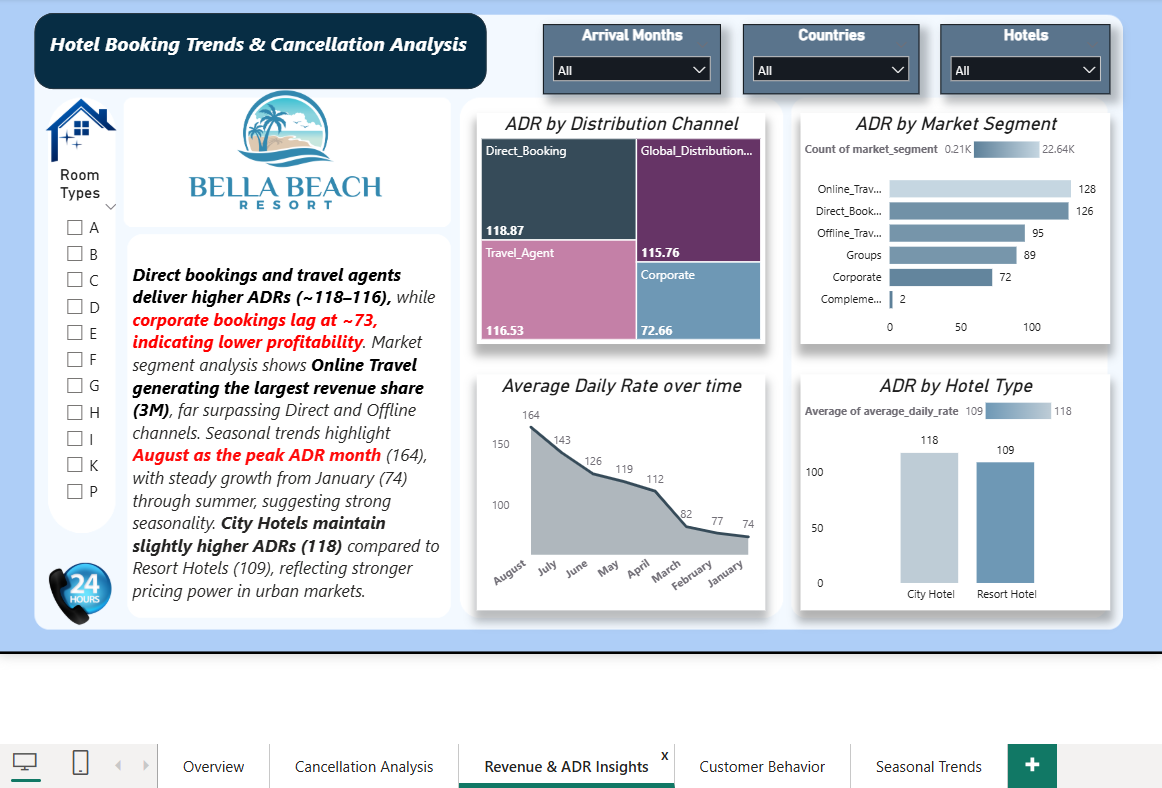

The dashboard page shown, as its layout file describes it:
{"tool":"powerbi","page":{"name":"Revenue & ADR Insights","canvas":[1280,720],"ordinal":2},"visuals":[{"type":"slicer","title":"Hotels","fields":{"Values":["hotel_revenue.hotel"]},"box":[655.8,166.3,293,59.3],"z":0},{"type":"slicer","title":"Countries","fields":{"Values":["hotel_revenue.Country Full Name"]},"box":[333.7,166.3,293,59.3],"z":1000},{"type":"textbox","box":[82.2,0,1115.9,86.3],"z":2000},{"type":"slicer","title":"Arrival Months","fields":{"Values":["hotel_revenue.arrival_date_month"]},"box":[12.8,166.3,293,59.3],"z":3000},{"type":"image","box":[12.8,0,181.4,173.3],"z":4000},{"type":"cardVisual","fields":{"Data":["Measure.Avg Lead Time"]},"box":[735.8,63.3,242.6,102.4],"z":5000},{"type":"cardVisual","fields":{"Data":["Measure.Cancellation Rate"]},"box":[458.2,63.3,239.9,102.4],"z":6000},{"type":"cardVisual","fields":{"Data":["Measure.Total Bookings"]},"box":[202.1,62,222.4,102.4],"z":7000},{"type":"cardVisual","fields":{"Data":["Measure.Avg Daily Rate"]},"box":[1006.7,63.3,234.5,102.4],"z":8000},{"type":"slicer","title":"Room Type","fields":{"Values":["hotel_revenue.assigned_room_type"]},"box":[977.9,166.3,293,59.3],"z":9000},{"type":"areaChart","title":"Average Daily Rate(USD) over time","fields":{"Category":["hotel_revenue.arrival_date_month"],"Y":["Avg(hotel_revenue.average_daily_rate)"]},"box":[12.1,250.7,671.1,258.8],"z":10000},{"type":"treemap","title":"ADR(USD) by Distribution Channel","fields":{"Values":["Avg(hotel_revenue.average_daily_rate)"],"Group":["hotel_revenue.distribution_channel"]},"box":[698.1,250.7,572.8,258.8],"z":11000},{"type":"clusteredBarChart","title":"ADR(USD) by Market Segment","fields":{"Category":["hotel_revenue.market_segment"],"Y":["Avg(hotel_revenue.average_daily_rate)"]},"box":[12.1,531,671.1,188.7],"z":12000},{"type":"clusteredBarChart","title":"ADR(USD) by Hotel Type","fields":{"Category":["hotel_revenue.hotel"],"Y":["Avg(hotel_revenue.average_daily_rate)"]},"box":[698.1,531,572.8,188.7],"z":13000}]}

Visuals, with their boxes on the page's 1280x720 design canvas (x1, y1, x2, y2). These are canvas units, not pixel positions in the 1162x788 screenshot, which may show the page scaled, cropped or inside an application window:
"Hotels" slicer: box(656, 166, 949, 226)
"Countries" slicer: box(334, 166, 627, 226)
textbox: box(82, 0, 1198, 86)
"Arrival Months" slicer: box(13, 166, 306, 226)
image: box(13, 0, 194, 173)
cardVisual - Measure.Avg Lead Time: box(736, 63, 978, 166)
cardVisual - Measure.Cancellation Rate: box(458, 63, 698, 166)
cardVisual - Measure.Total Bookings: box(202, 62, 424, 164)
cardVisual - Measure.Avg Daily Rate: box(1007, 63, 1241, 166)
"Room Type" slicer: box(978, 166, 1271, 226)
"Average Daily Rate(USD) over time" areaChart: box(12, 251, 683, 510)
"ADR(USD) by Distribution Channel" treemap: box(698, 251, 1271, 510)
"ADR(USD) by Market Segment" clusteredBarChart: box(12, 531, 683, 720)
"ADR(USD) by Hotel Type" clusteredBarChart: box(698, 531, 1271, 720)
